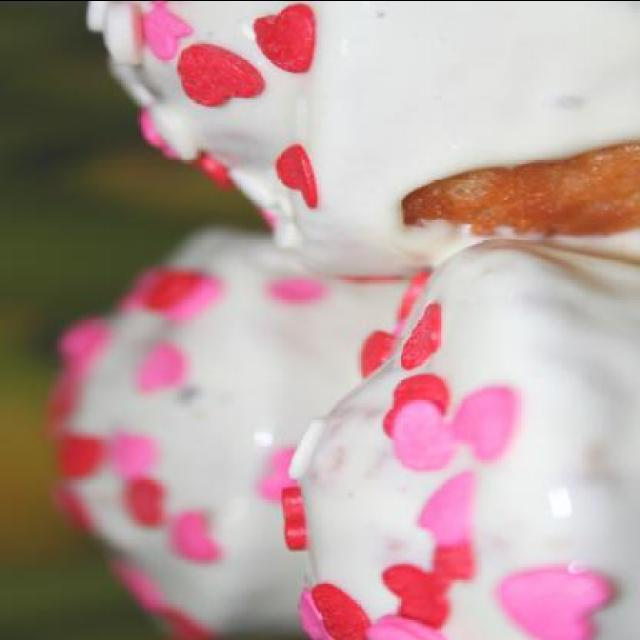Candy: (280, 263, 622, 640), (42, 268, 220, 640), (87, 0, 316, 236), (162, 36, 260, 98)
